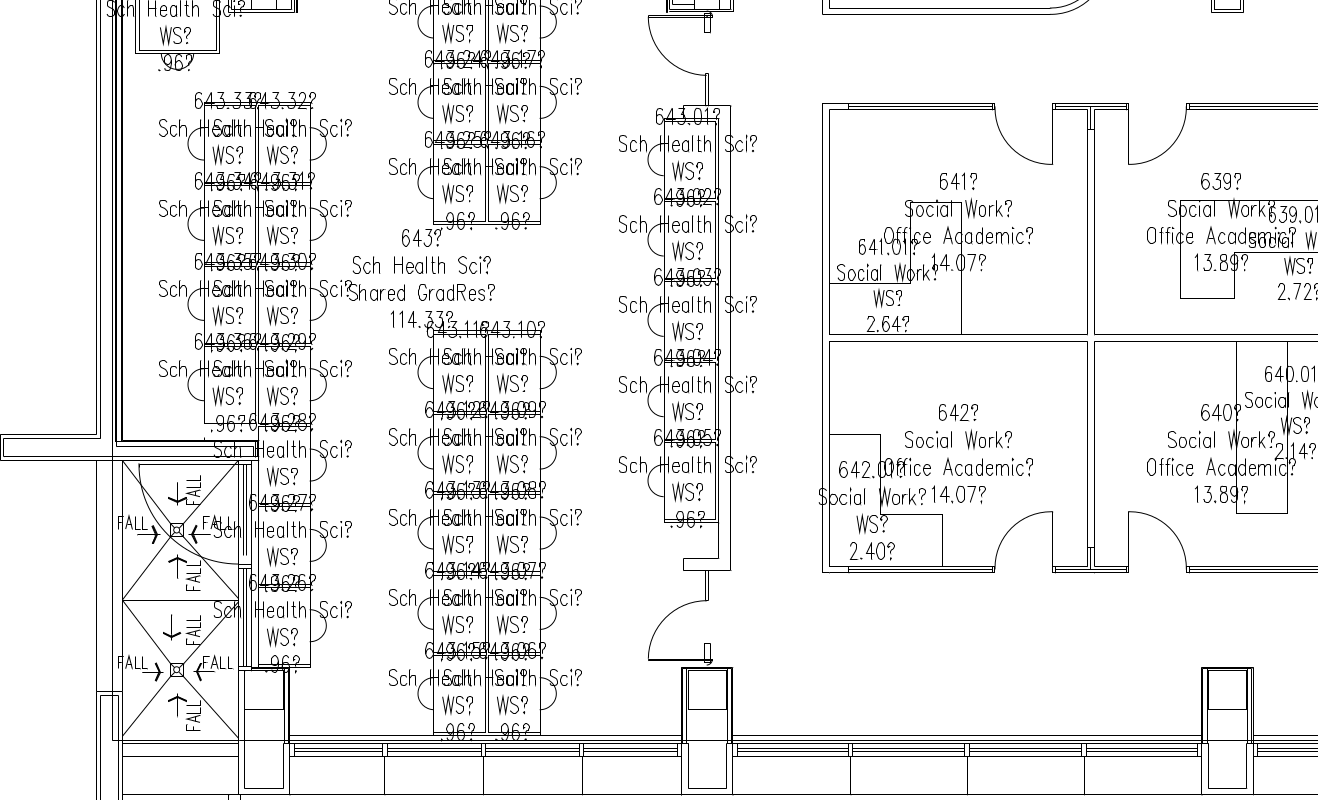door: (640, 596, 703, 662), (640, 13, 703, 79), (993, 108, 1056, 174), (1124, 109, 1187, 175), (1125, 499, 1188, 565), (992, 498, 1055, 564)
